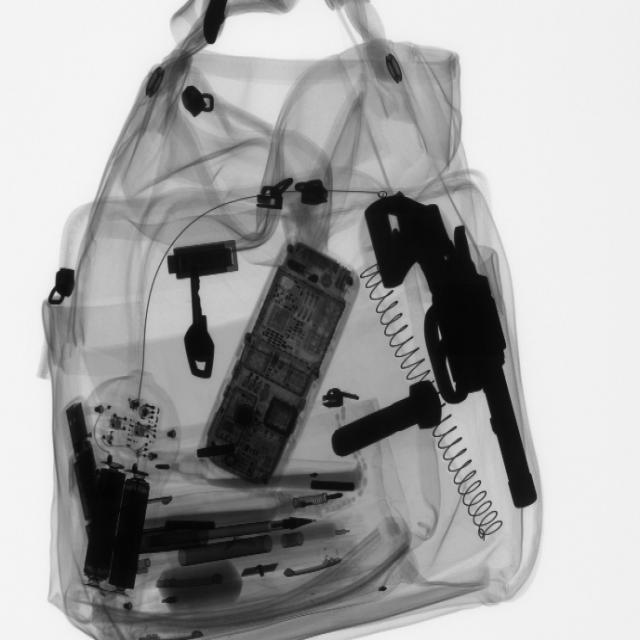GUN: (369, 192, 540, 522)
